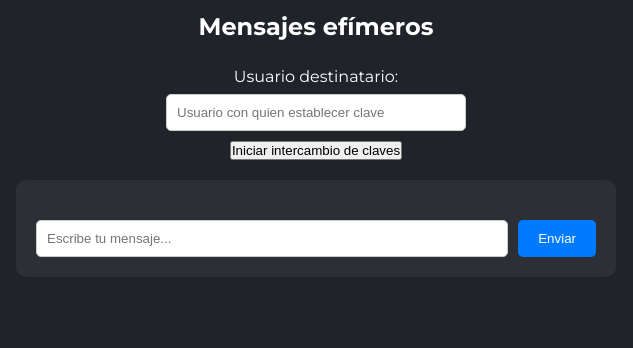
Test: EphemeralMessages › startKeyExchange shows missing receiver log when no receiver provided
This screenshot has width=633, height=348.
// Click start without entering receiver
Step 1. Click the button "Iniciar intercambio de claves" → (316, 150), box x1=230 y1=141 x2=402 y2=160
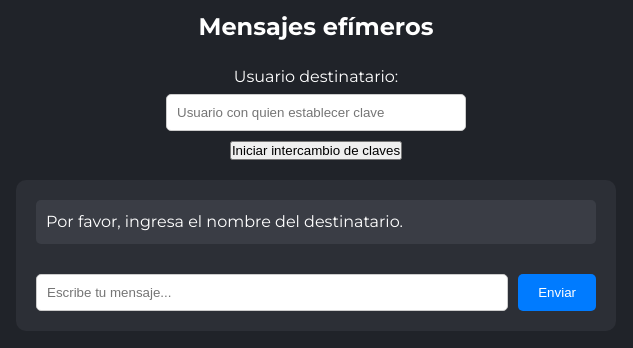
Expected: the text "Por favor, ingresa el nombre del destinatario." is shown, x1=36 y1=200 x2=596 y2=244
